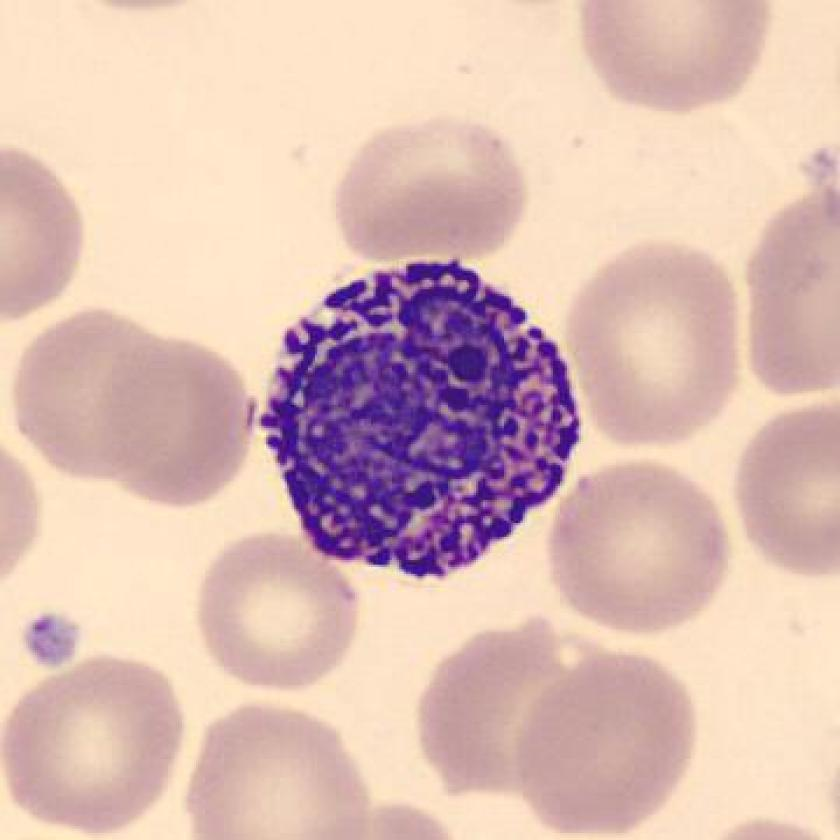basophil: (246, 249, 591, 584)
